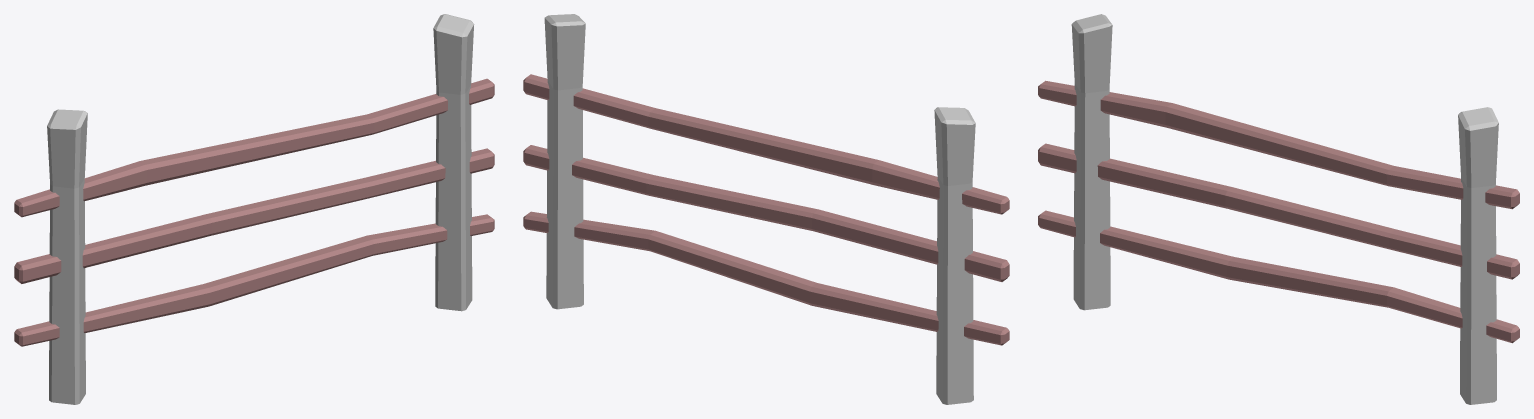
Rendered from fp_fence_post.glb.
3 views of the same model, side by side, from view 1: azimuth 30°, elevation 25°; view 2: azimuth 150°, elevation 25°; view 3: azimuth 330°, elevation 25° (orthographic).
Size of the model in its own units: 0.9136 by 0.5213 by 0.074.
